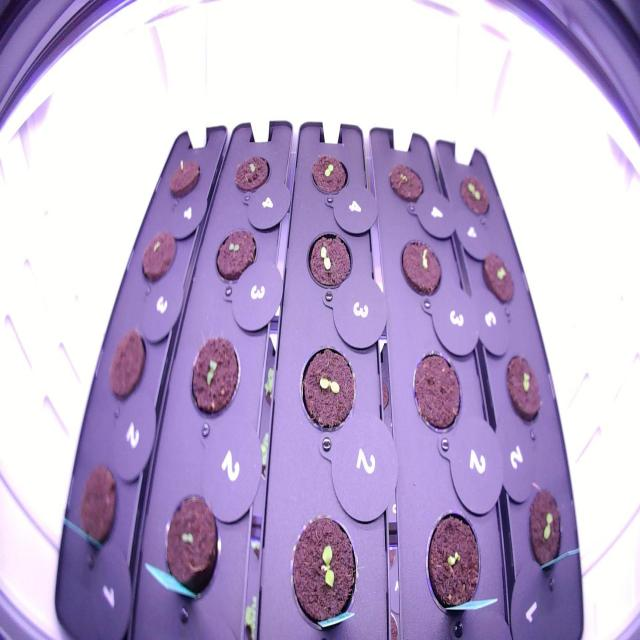germination: (284, 507, 362, 636), (419, 498, 486, 622), (160, 487, 226, 602), (294, 337, 360, 438), (188, 328, 242, 424), (524, 483, 566, 579), (302, 227, 354, 292), (396, 233, 445, 300), (503, 350, 544, 428), (212, 224, 260, 288), (135, 222, 178, 290), (478, 246, 516, 311), (308, 149, 350, 201), (165, 152, 203, 206), (384, 160, 426, 207), (230, 150, 272, 195), (455, 170, 492, 220)
pod: (407, 342, 465, 441), (73, 461, 122, 556), (106, 324, 149, 407)
